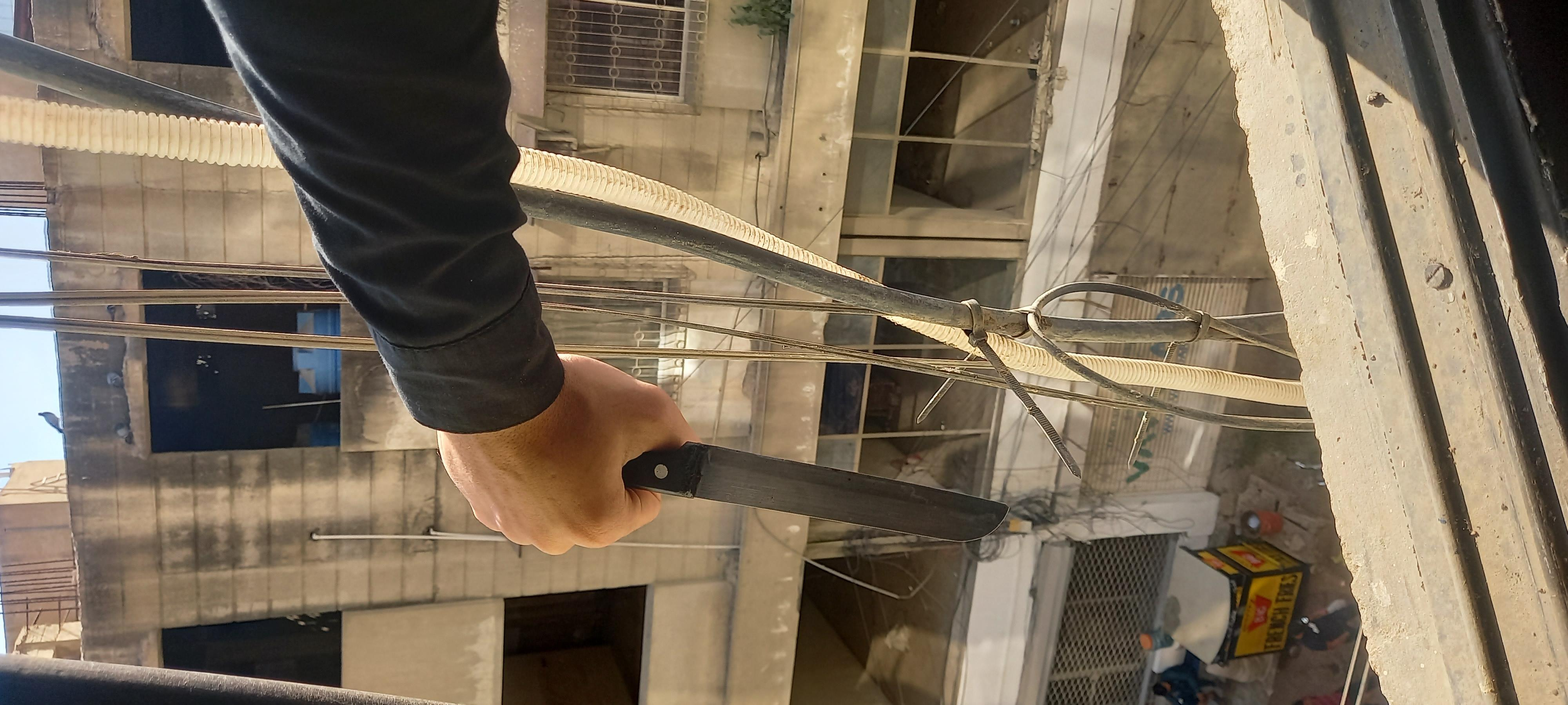knives: (356, 206, 647, 466)
